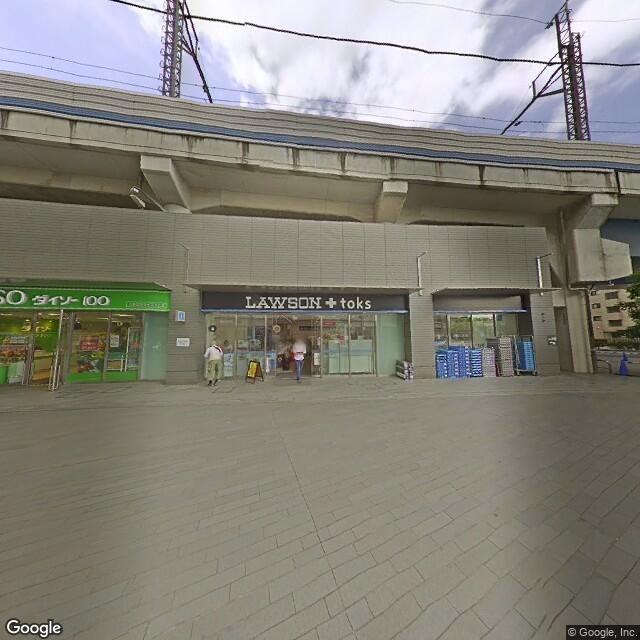lawson: (233, 287, 379, 314)
